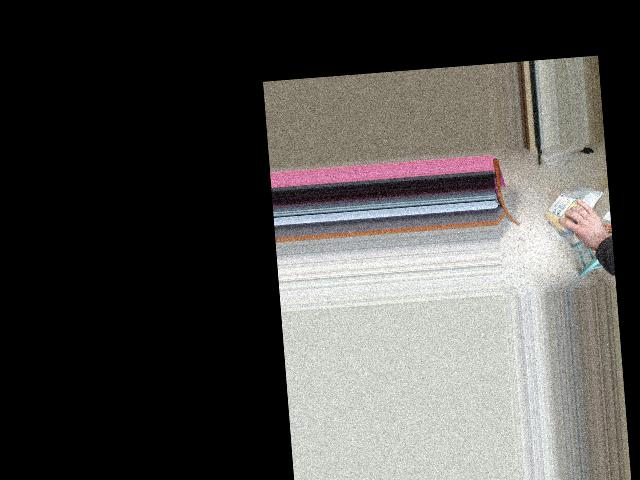cheese: (543, 186, 604, 235)
